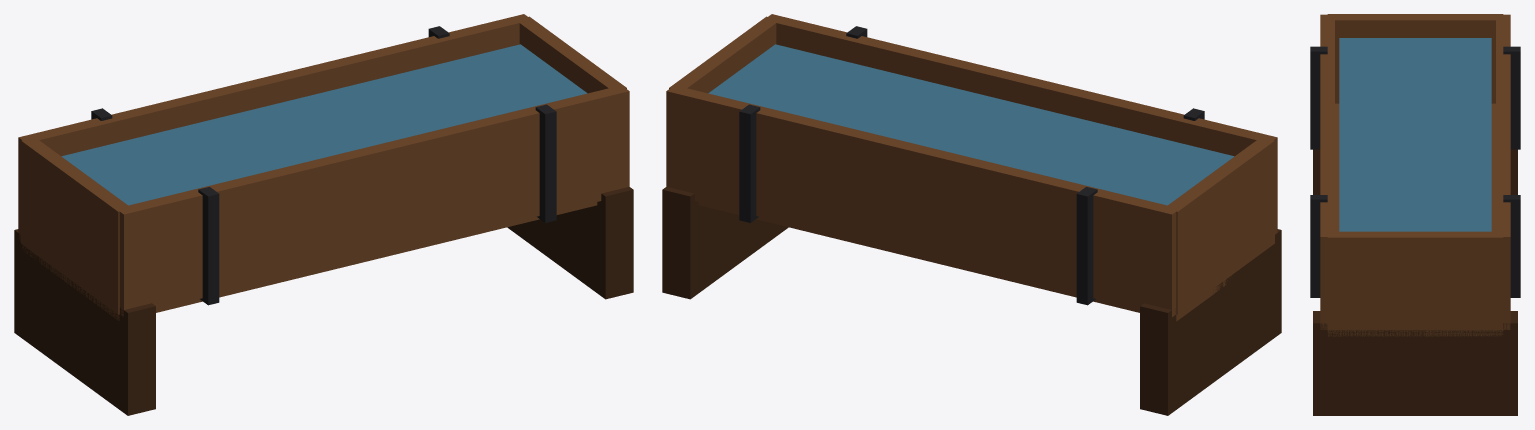
The model's file is SM_Water_Trough.obj.
The picture shows the model from 3 angles, left to right: view 1: azimuth 30°, elevation 25°; view 2: azimuth 150°, elevation 25°; view 3: azimuth 270°, elevation 25°; orthographic projection. The views are drawn at different scales.
Parts seen in each view (by area): view 1: SM_Water_Trough; view 2: SM_Water_Trough; view 3: SM_Water_Trough.
Boxes of the visible parts, box(x1,y1,x2,y2) form: SM_Water_Trough: box(14, 14, 633, 415); SM_Water_Trough: box(662, 14, 1281, 415); SM_Water_Trough: box(1310, 14, 1520, 415).
Size of the model in its own units: 1.81 by 0.685 by 0.72.
